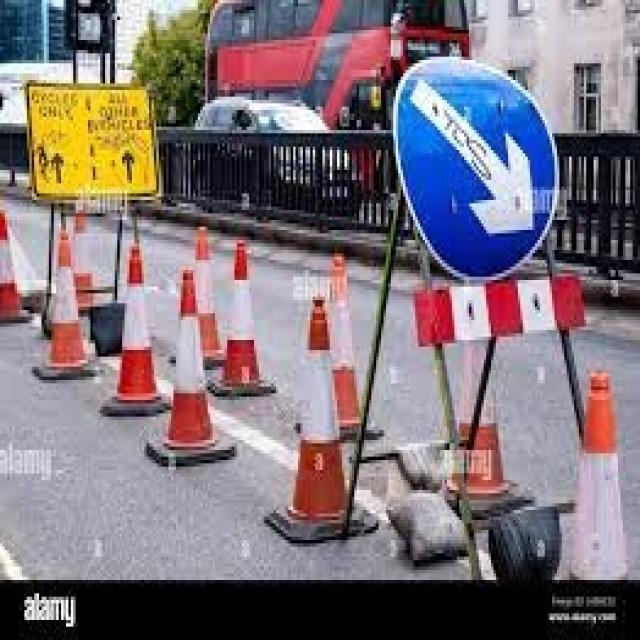compulsory_keep_right: (384, 46, 558, 286)
